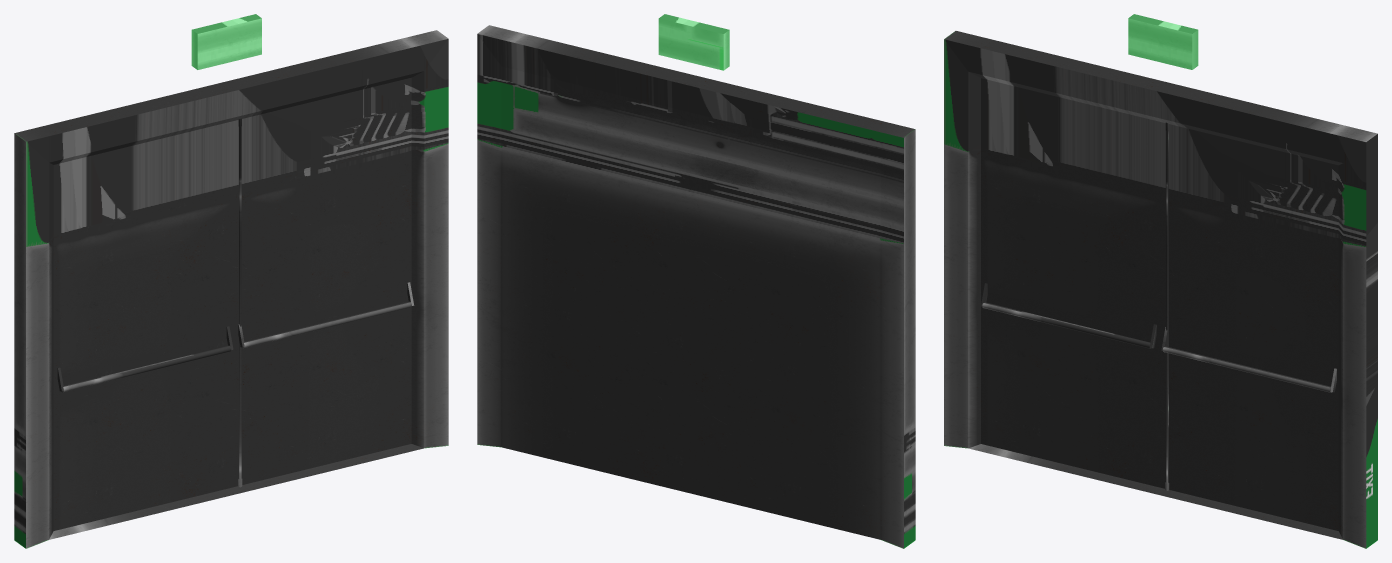
3 views of the same model, side by side, from view 1: azimuth 30°, elevation 25°; view 2: azimuth 150°, elevation 25°; view 3: azimuth 330°, elevation 25° (orthographic).
Parts seen in each view (by area): view 1: Puerta salida_U3_ADJ_02_(Woman_Ref)_default_0; view 2: Puerta salida_U3_ADJ_02_(Woman_Ref)_default_0; view 3: Puerta salida_U3_ADJ_02_(Woman_Ref)_default_0.
Part boxes in pixels (x1,y1,x2,y2): Puerta salida_U3_ADJ_02_(Woman_Ref)_default_0: (14,14,448,548); Puerta salida_U3_ADJ_02_(Woman_Ref)_default_0: (477,14,915,548); Puerta salida_U3_ADJ_02_(Woman_Ref)_default_0: (944,14,1377,548).
Size of the model in its own units: 6.55 by 6.91 by 0.3305.
